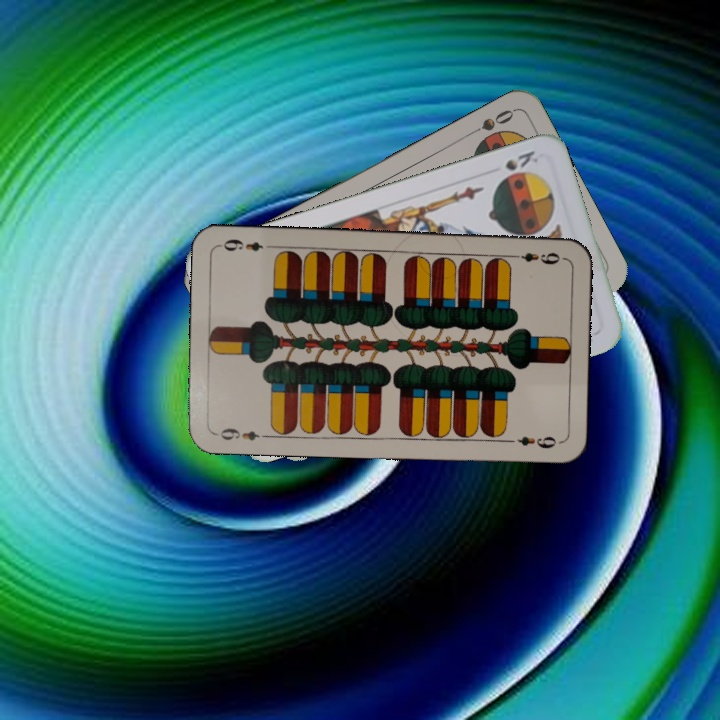E9: (507, 248, 566, 267), (211, 424, 270, 443)
SK: (501, 146, 541, 174)
SO: (462, 105, 516, 140)
